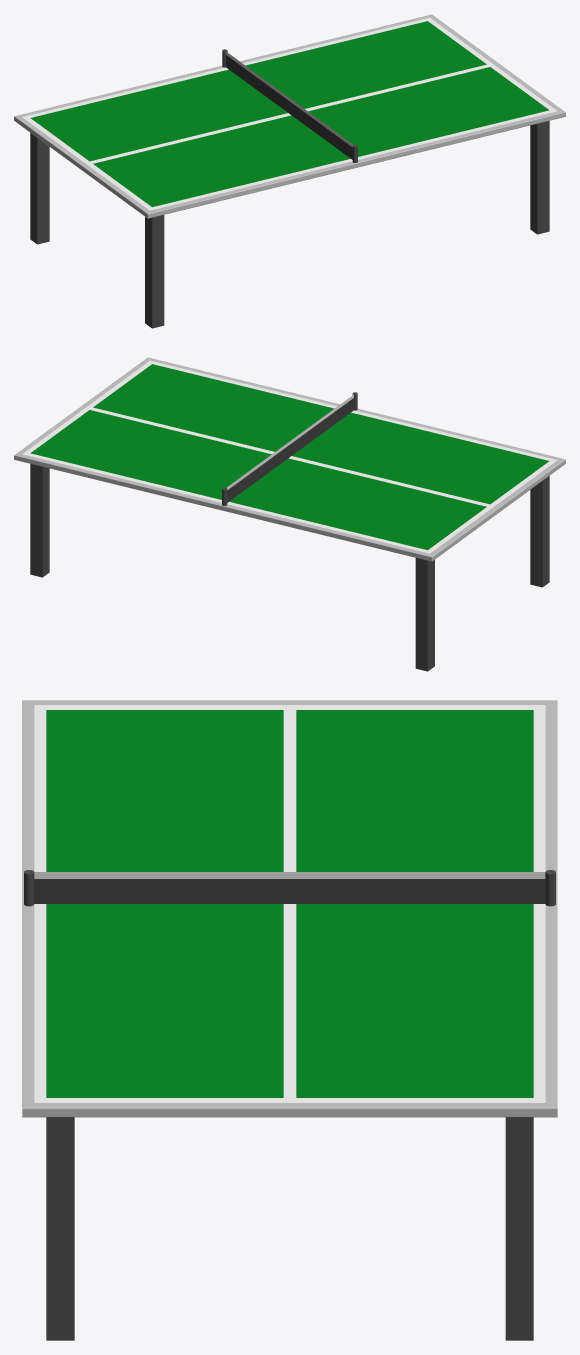
File: Table.fbx
3 views of the same model, one above another, from view 1: azimuth 30°, elevation 25°; view 2: azimuth 150°, elevation 25°; view 3: azimuth 270°, elevation 25° (orthographic). The views are drawn at different scales.
Parts seen in each view (by area): view 1: Box001, Box005, Box004, Plane001, Box002; view 2: Box001, Box002, Box003, Plane001, Box005; view 3: Box001, Plane001, Box004, Box003.
Boxes of the visible parts, x1,y1,x2,y2 form: Box001: [14, 14, 565, 218]; Box005: [145, 215, 164, 328]; Box004: [530, 121, 549, 234]; Plane001: [226, 51, 353, 159]; Box002: [30, 133, 49, 244]; Box001: [14, 357, 565, 561]; Box002: [415, 558, 434, 671]; Box003: [30, 464, 49, 577]; Plane001: [226, 394, 353, 502]; Box005: [530, 476, 549, 587]; Box001: [22, 700, 557, 1117]; Plane001: [34, 872, 545, 903]; Box004: [46, 1117, 74, 1340]; Box003: [505, 1117, 533, 1340].
Bounding box in the file's own units: 274 × 85.99 × 152.
